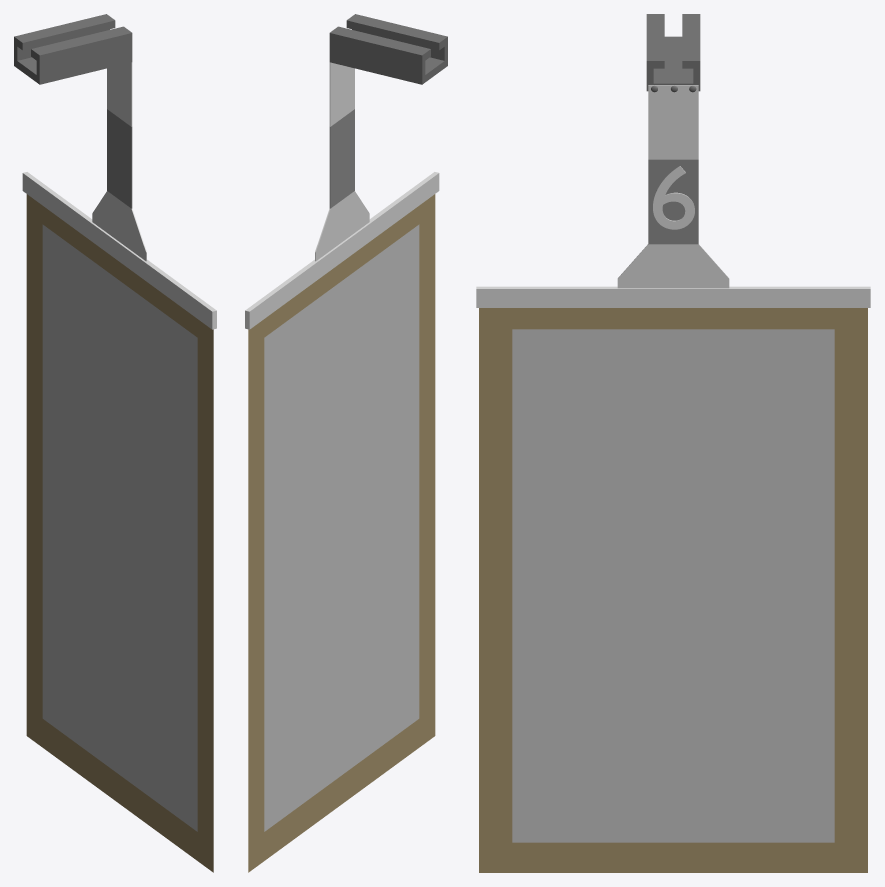
Rendered from Target 6.fbx.
3 views of the same model, side by side, from view 1: azimuth 30°, elevation 25°; view 2: azimuth 150°, elevation 25°; view 3: azimuth 270°, elevation 25° (orthographic). The views are drawn at different scales.
Visible parts, largest first — view 1: Target 6; view 2: Target 6; view 3: Target 6.
Boxes of the visible parts, x1,y1,x2,y2 form: Target 6: (14, 14, 216, 872); Target 6: (245, 14, 447, 872); Target 6: (476, 14, 870, 872).
Bounding box in the file's own units: 20.55 × 161 × 70.94.
